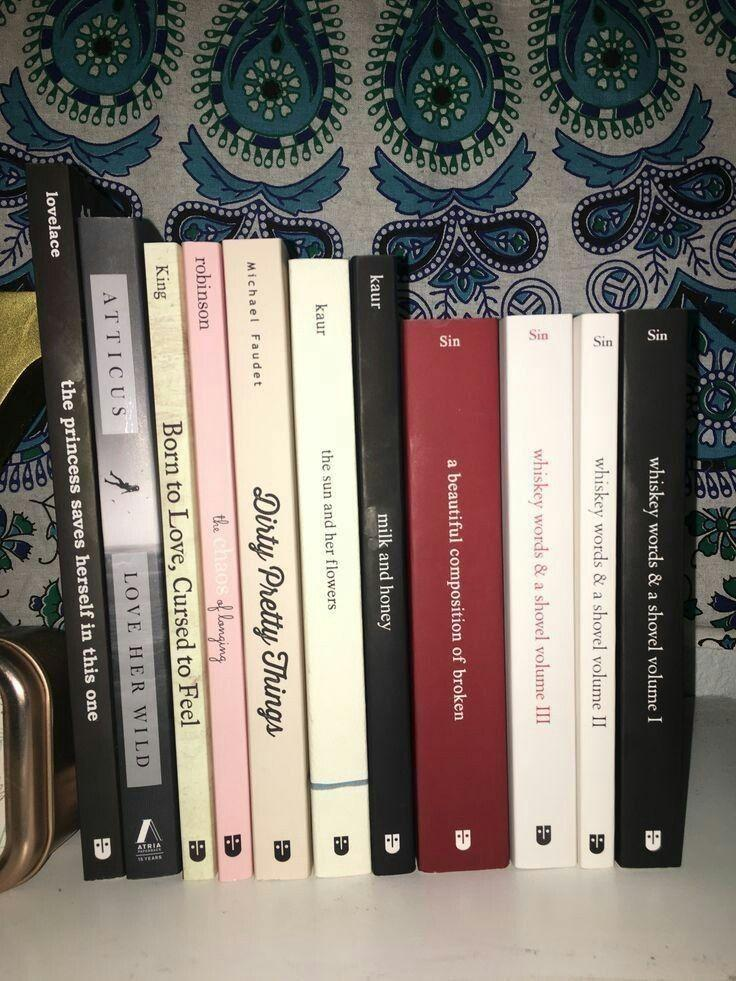book: (27, 167, 133, 876), (403, 311, 509, 875), (221, 241, 313, 881), (176, 241, 258, 879), (292, 256, 371, 873), (616, 309, 693, 865), (351, 257, 419, 873), (505, 314, 575, 863), (577, 333, 615, 865)
